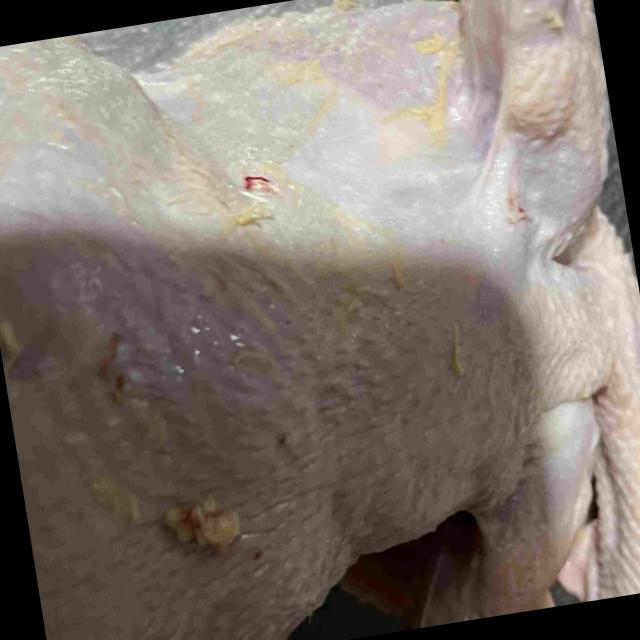back: (0, 91, 521, 640)
leg: (0, 34, 150, 218)
neck: (524, 219, 640, 604)
wing: (335, 412, 595, 632), (462, 0, 609, 249)
